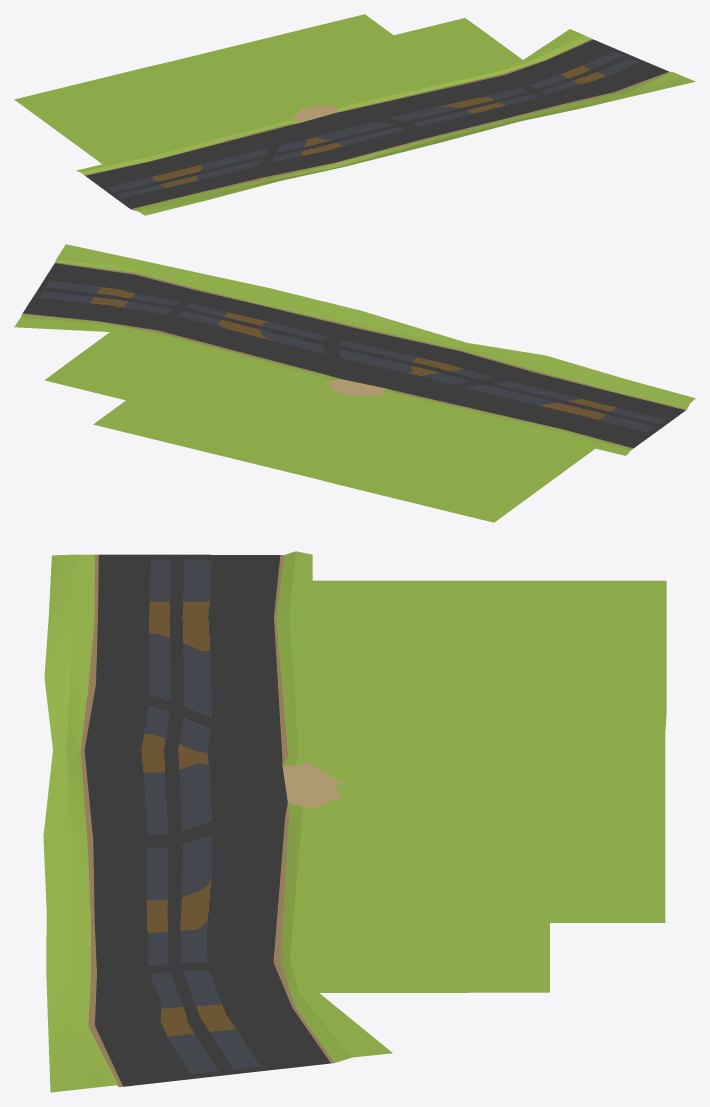
Rendered from section2.fbx.
The picture shows the model from 3 angles, top to bottom: view 1: azimuth 30°, elevation 25°; view 2: azimuth 150°, elevation 25°; view 3: azimuth 270°, elevation 25°; orthographic projection. The views are drawn at different scales.
Parts seen in each view (by area): view 1: rr; view 2: rr; view 3: rr.
Boxes of the visible parts, left/top/right/bottom form: rr: left=14, top=14, right=695, bottom=215; rr: left=14, top=244, right=695, bottom=522; rr: left=43, top=551, right=666, bottom=1092.
Size of the model in its own units: 95.62 by 1.03 by 46.51.
